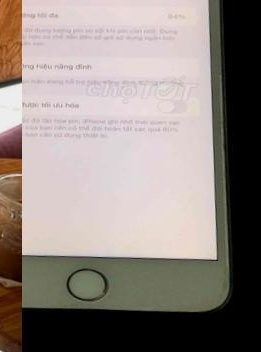scratch: (210, 254, 231, 304)
